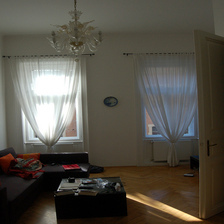laptop: (60, 162, 82, 172)
